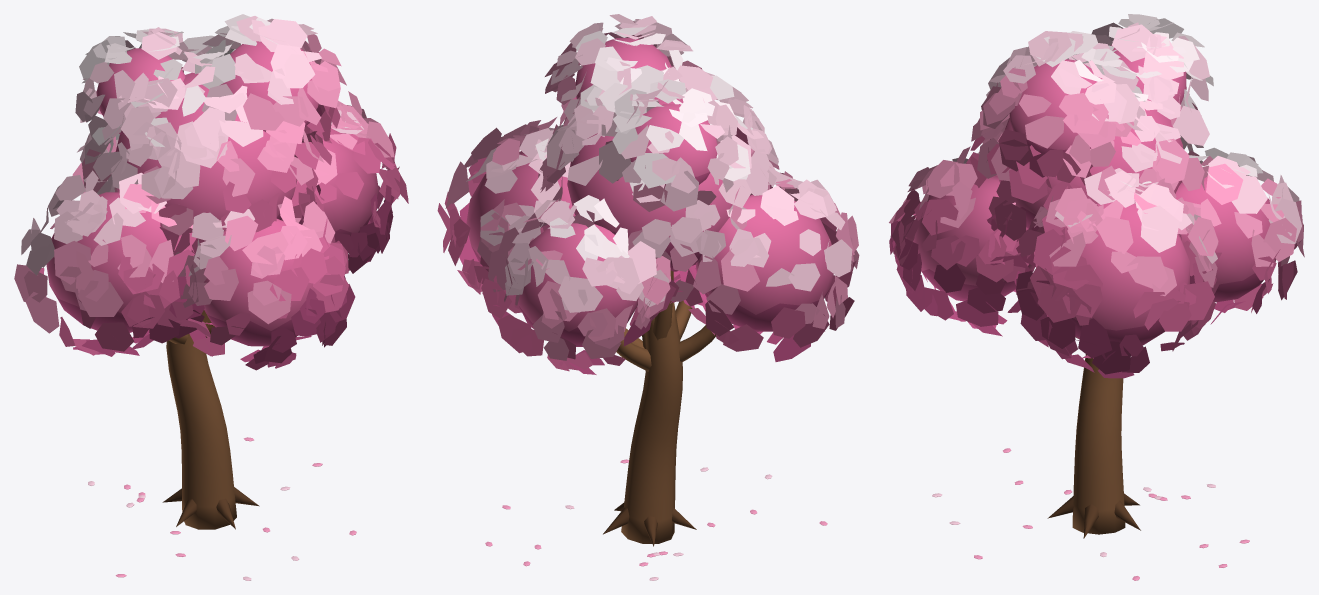
File: TreeBlossom.glb
The picture shows the model from 3 angles, left to right: view 1: azimuth 30°, elevation 25°; view 2: azimuth 150°, elevation 25°; view 3: azimuth 270°, elevation 25°; orthographic projection. The views are drawn at different scales.
Parts seen in each view (by area): view 1: Canopy, Body; view 2: Canopy, Body; view 3: Canopy, Body.
Part boxes in pixels (<box>): Canopy: <box>14,14,408,370</box>; Body: <box>88,310,356,580</box>; Canopy: <box>437,14,859,374</box>; Body: <box>485,270,827,580</box>; Canopy: <box>889,14,1304,378</box>; Body: <box>932,337,1249,580</box>.
Bounding box in the file's own units: 11.18 × 14.11 × 10.51.
Materials: 2 (2 with a texture image).
